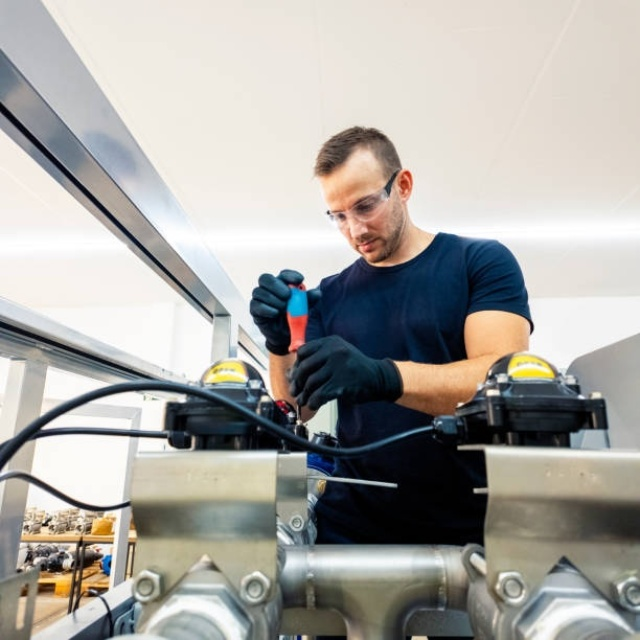Gafas: (326, 167, 398, 229)
Guantes: (288, 334, 403, 410), (249, 269, 321, 355)
Sin_mascara: (350, 234, 388, 257)
